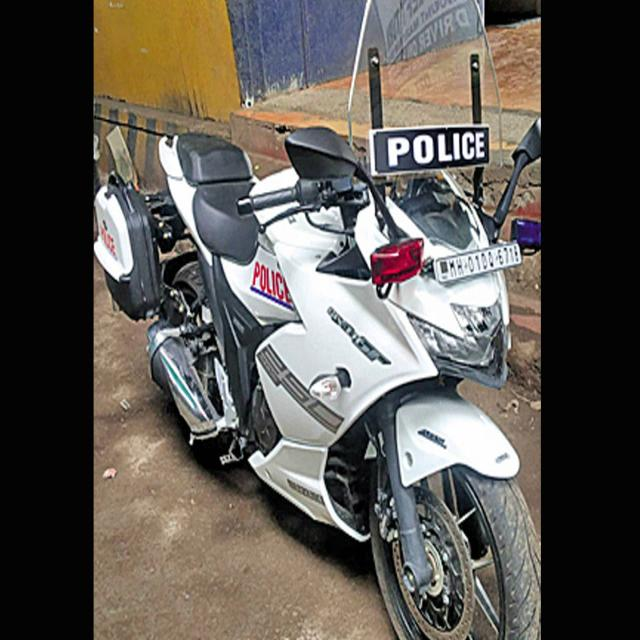motorcycle: (96, 120, 540, 638)
